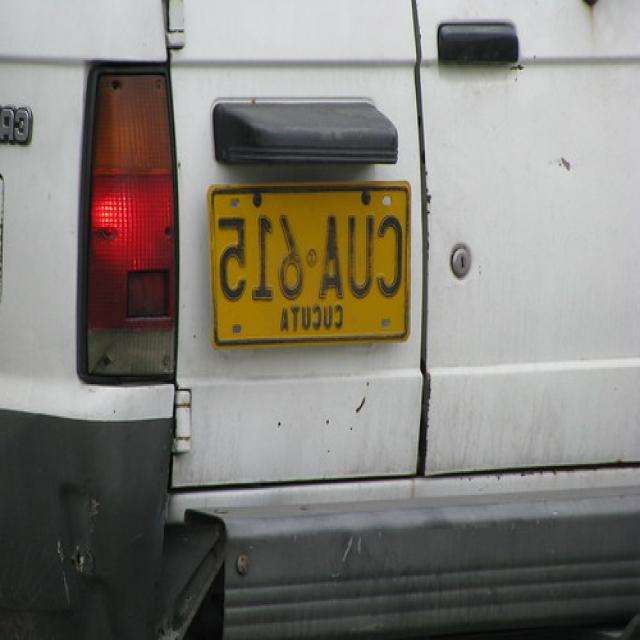placas: (212, 201, 405, 305)
